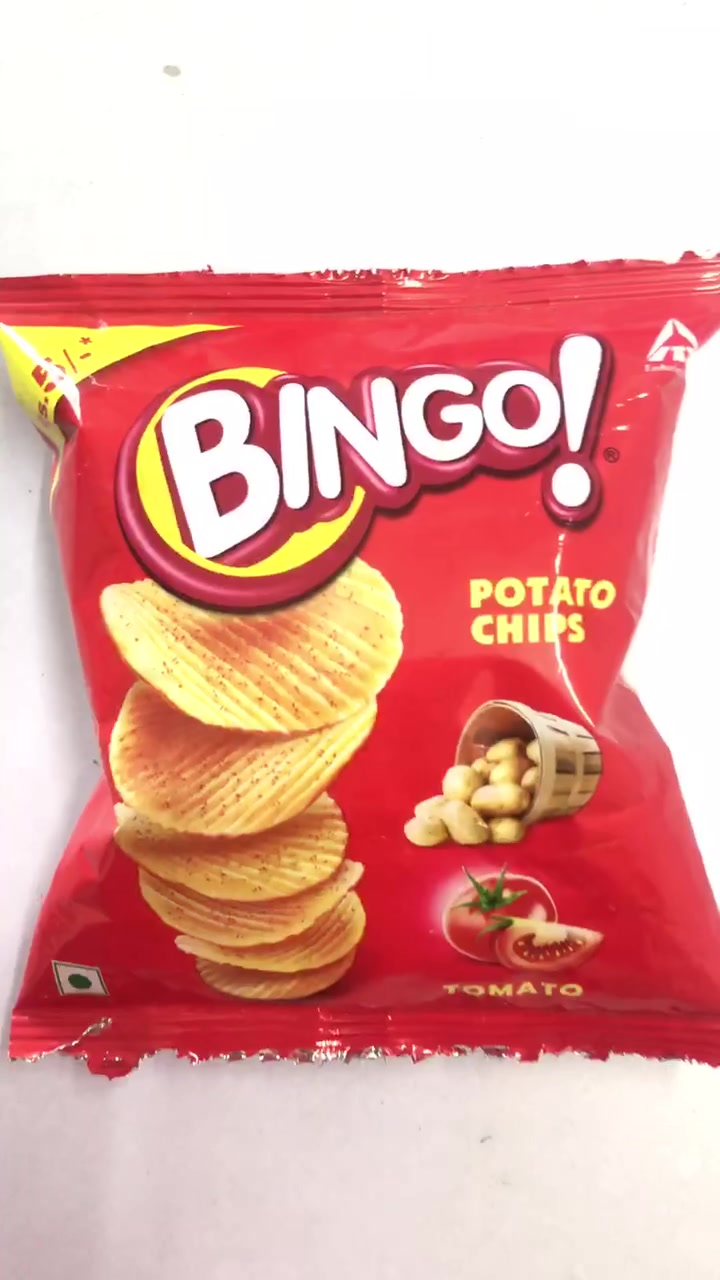Bingo: (2, 270, 720, 1049)
